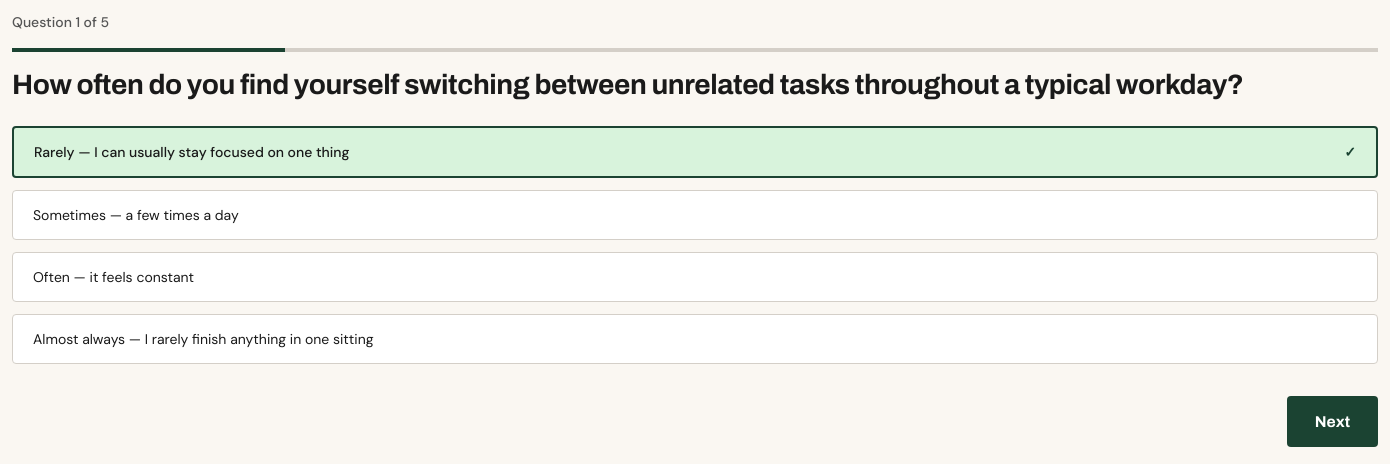
Test case: WPLLStepper › clicking Back on Q2 returns to Q1
Click the button "Next" at (1332, 421), box top-left (1287, 396), bottom-right (1378, 447)
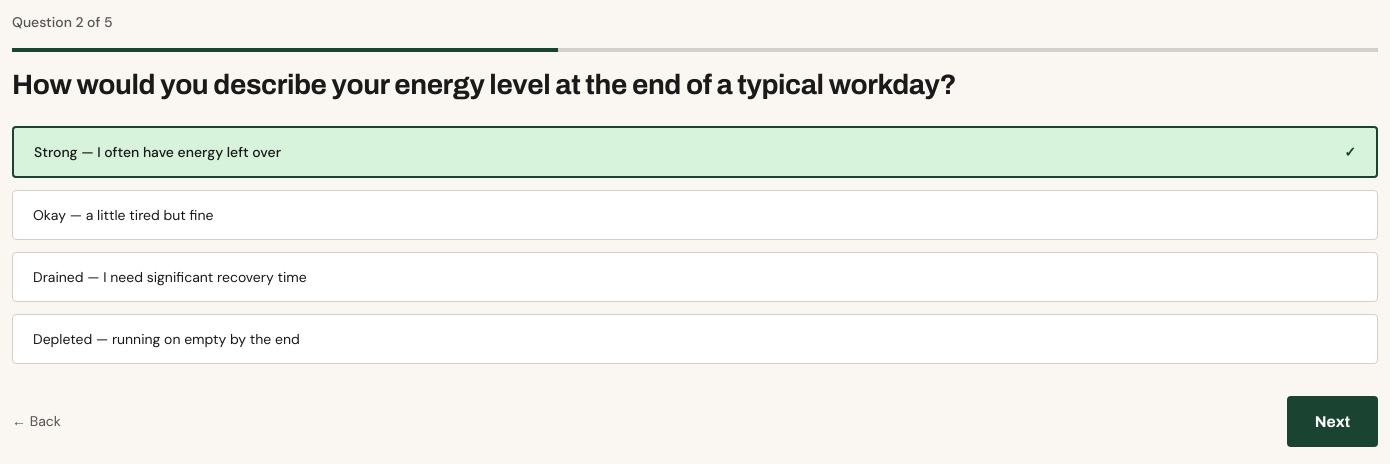
Now the heading "How would you describe your energy level at the end of a typical workday?" is shown, box top-left (12, 69), bottom-right (956, 100)
Click the button "← Back" at (36, 421), box top-left (12, 411), bottom-right (61, 431)
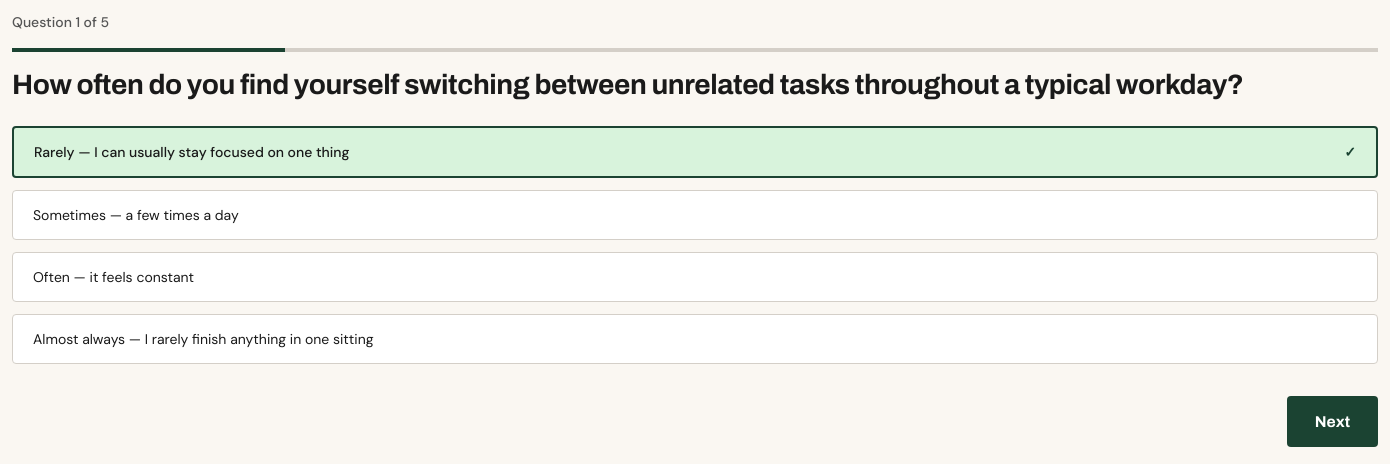
Now the heading "How often do you find yourself switching between unrelated tasks throughout a typical workday?" is shown, box top-left (12, 69), bottom-right (1244, 100)
